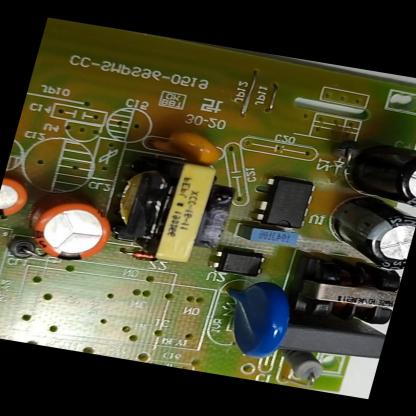Cap1: (16, 190, 121, 267)
Cap2: (0, 174, 38, 224)
Cap3: (317, 190, 415, 274)
Cap4: (338, 134, 416, 211)
MOSFET: (249, 171, 324, 231)
Mov: (207, 272, 301, 364)
Resistor: (277, 348, 331, 388)
Transformer: (99, 150, 242, 270), (282, 250, 404, 336)
